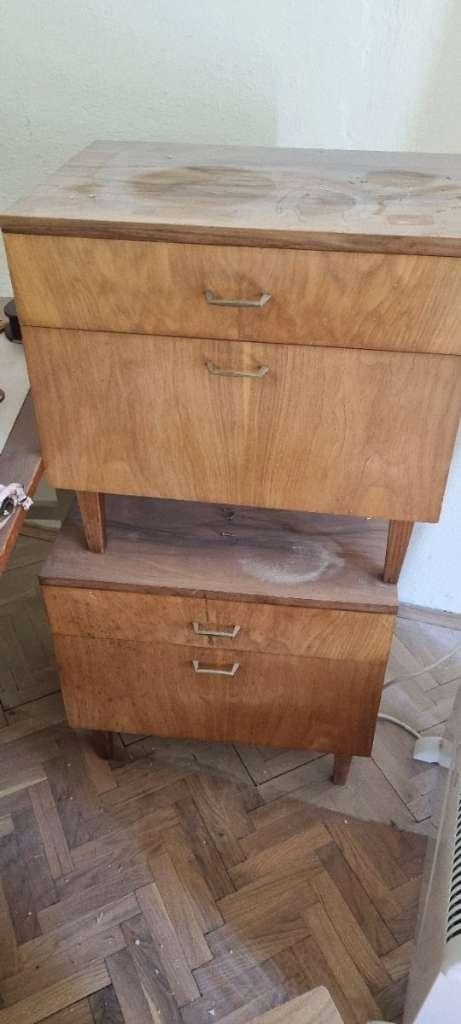cabinet_door: (15, 343, 454, 504), (13, 233, 461, 340), (51, 632, 389, 744)
handle: (200, 278, 272, 321), (203, 351, 271, 388), (191, 650, 241, 691)
